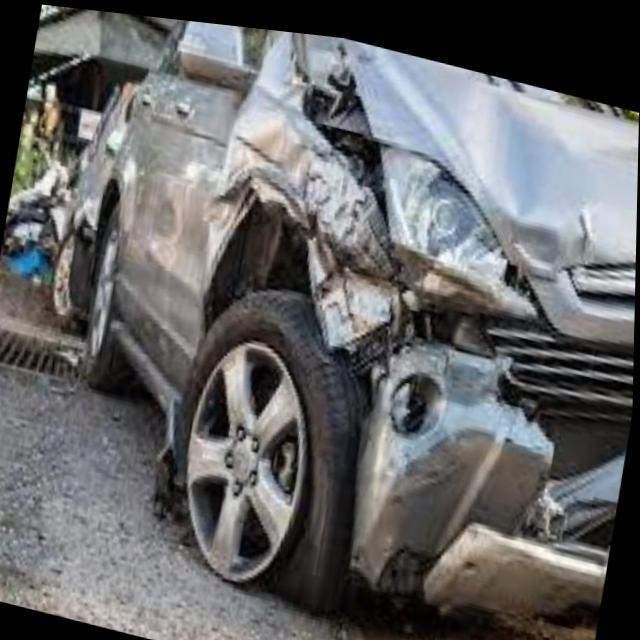no part: (199, 25, 639, 631)
